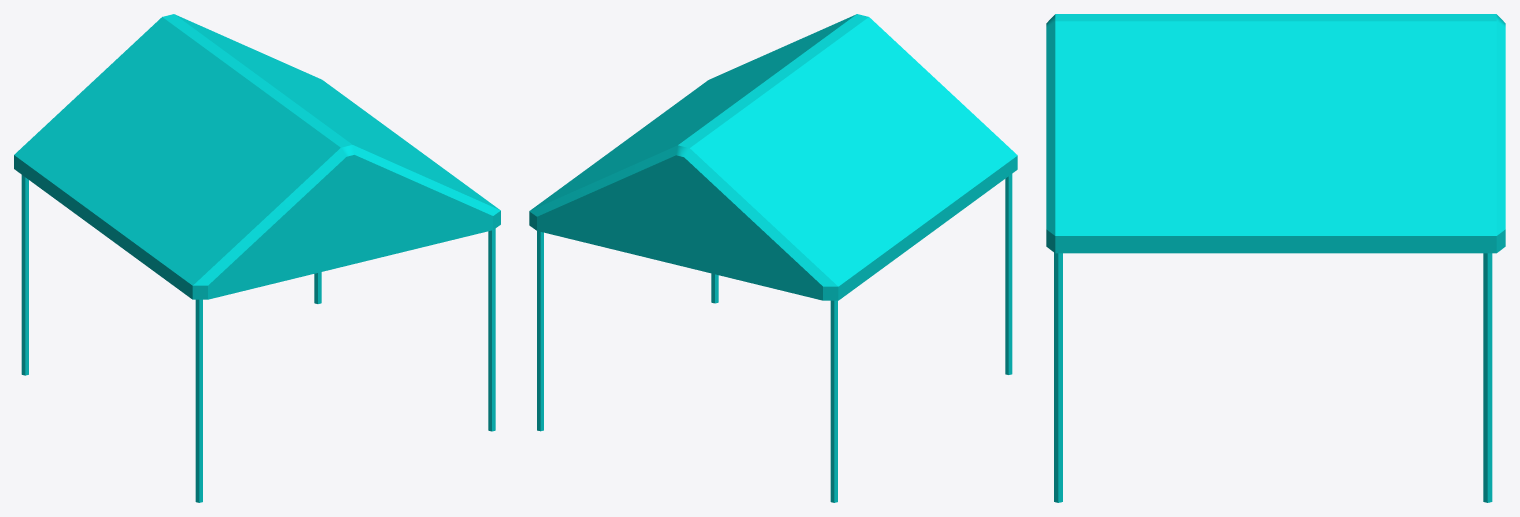
Rendered from SM_Prop_Tent_03_Collision.fbx.
The picture shows the model from 3 angles, left to right: view 1: azimuth 30°, elevation 25°; view 2: azimuth 150°, elevation 25°; view 3: azimuth 270°, elevation 25°; orthographic projection. The views are drawn at different scales.
Parts seen in each view (by area): view 1: SM_Prop_Tent_03_Collision; view 2: SM_Prop_Tent_03_Collision; view 3: SM_Prop_Tent_03_Collision.
Boxes of the visible parts, bbox=[...] form: SM_Prop_Tent_03_Collision: bbox=[14, 14, 500, 502]; SM_Prop_Tent_03_Collision: bbox=[529, 14, 1017, 502]; SM_Prop_Tent_03_Collision: bbox=[1046, 14, 1505, 502].
Size of the model in its own units: 365 by 362 by 382.
